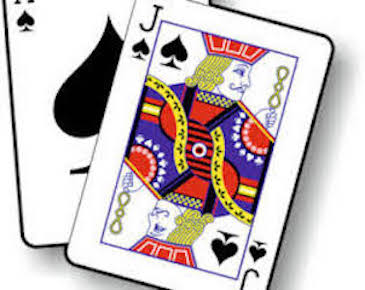AceOfSpades: (1, 1, 125, 250)
JackOfSpades: (67, 1, 335, 290)
